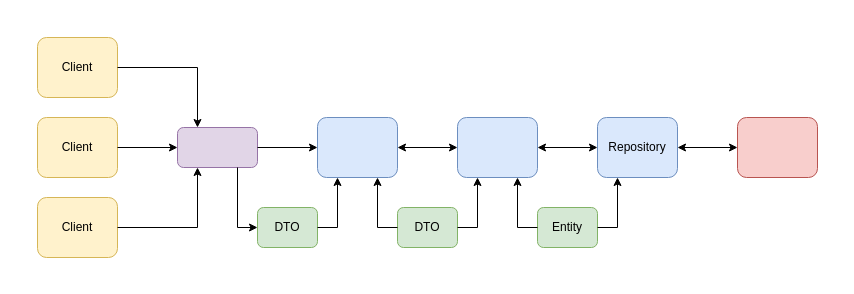
The diagram is 854 pixels wide and 294 high, and some of its shapes have lost their labels. The shapes that lost their labels are listed below. From the top down, each one's centre as x and y in pixels, then its label:
At pixel 217 147: "Router".
At pixel 357 147: "Controller".
At pixel 497 147: "Service".
At pixel 777 147: "Database".
